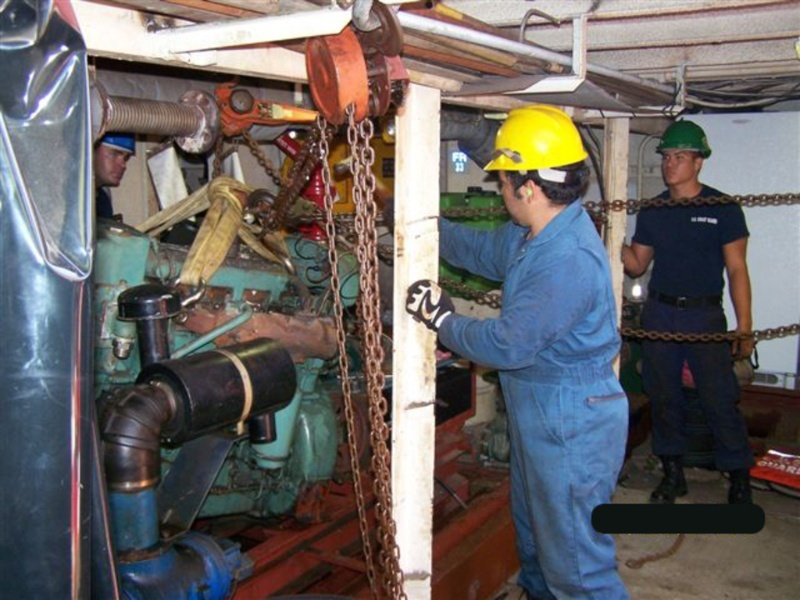Baret: (485, 105, 586, 172)
